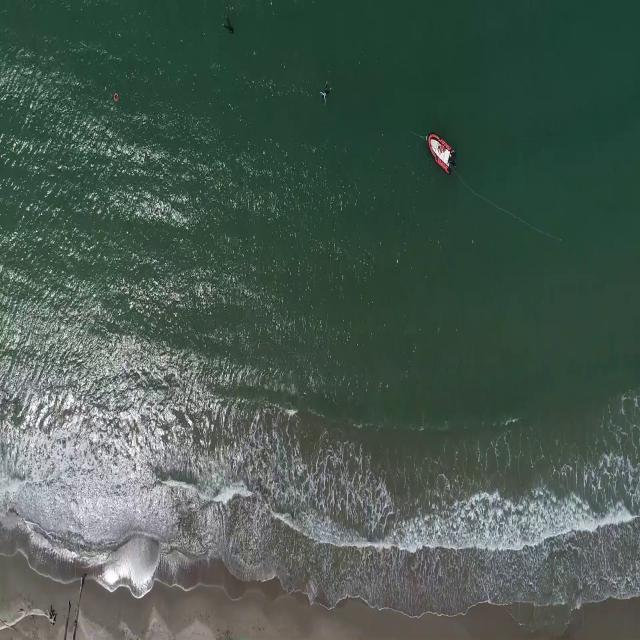boat: (427, 131, 454, 177)
life_buoy: (112, 91, 120, 103)
person: (319, 83, 333, 108), (223, 18, 237, 36)
wood: (64, 573, 86, 640), (0, 604, 61, 628)
